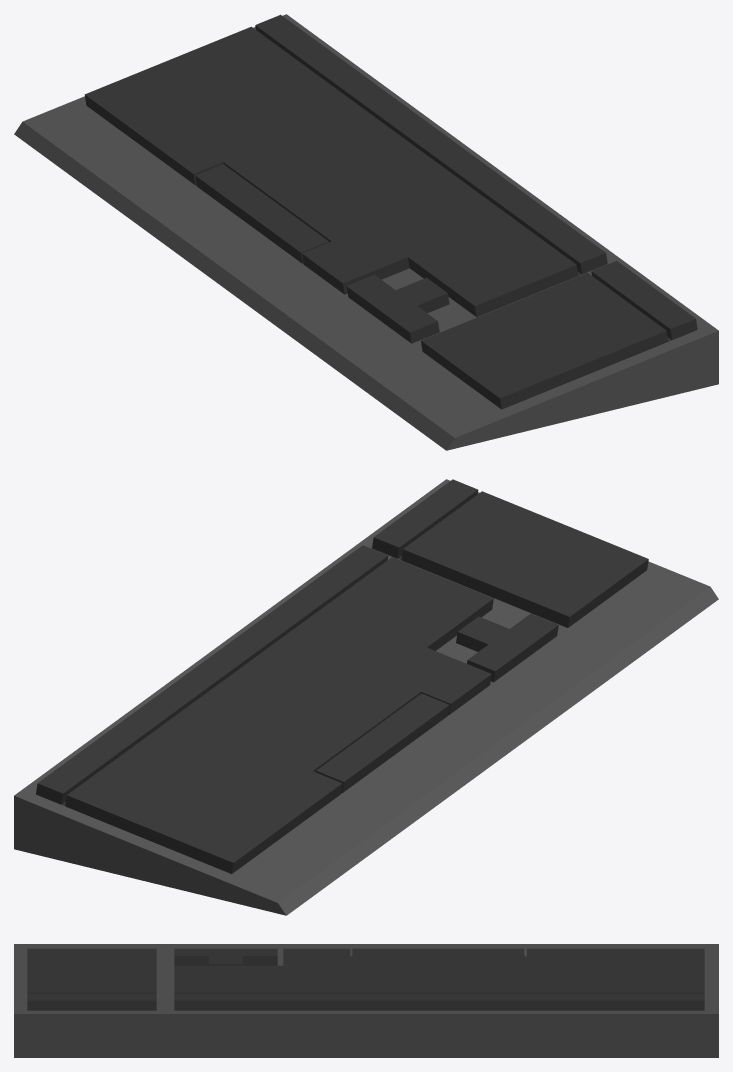
Rendered from Tastatur.fbx.
3 renders of one model, top to bottom at view 1: azimuth 30°, elevation 25°; view 2: azimuth 150°, elevation 25°; view 3: azimuth 270°, elevation 25°, orthographic. The views are drawn at different scales.
Parts seen in each view (by area): view 1: Tastatur; view 2: Tastatur; view 3: Tastatur.
Boxes of the visible parts, x1,y1,x2,y2 form: Tastatur: (14, 14, 718, 450); Tastatur: (14, 479, 718, 915); Tastatur: (14, 944, 718, 1057).
Size of the model in its own units: 34.66 by 7.67 by 95.22.
